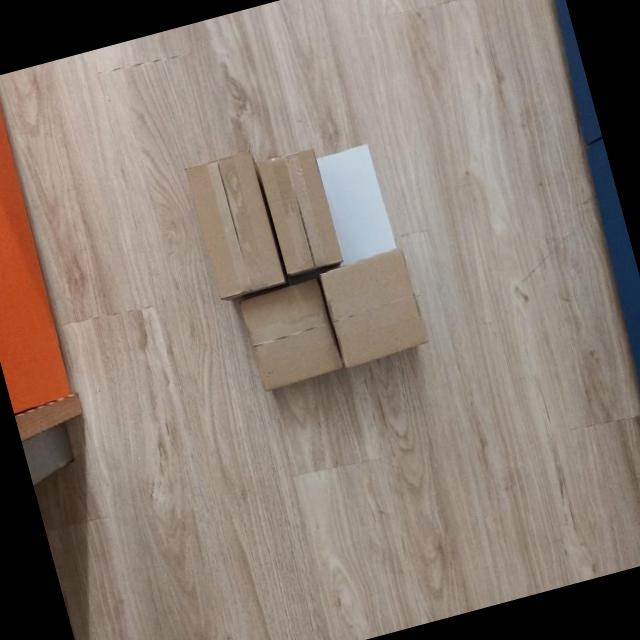box: (181, 147, 290, 302), (314, 242, 432, 372), (232, 274, 348, 398), (255, 144, 349, 279)
